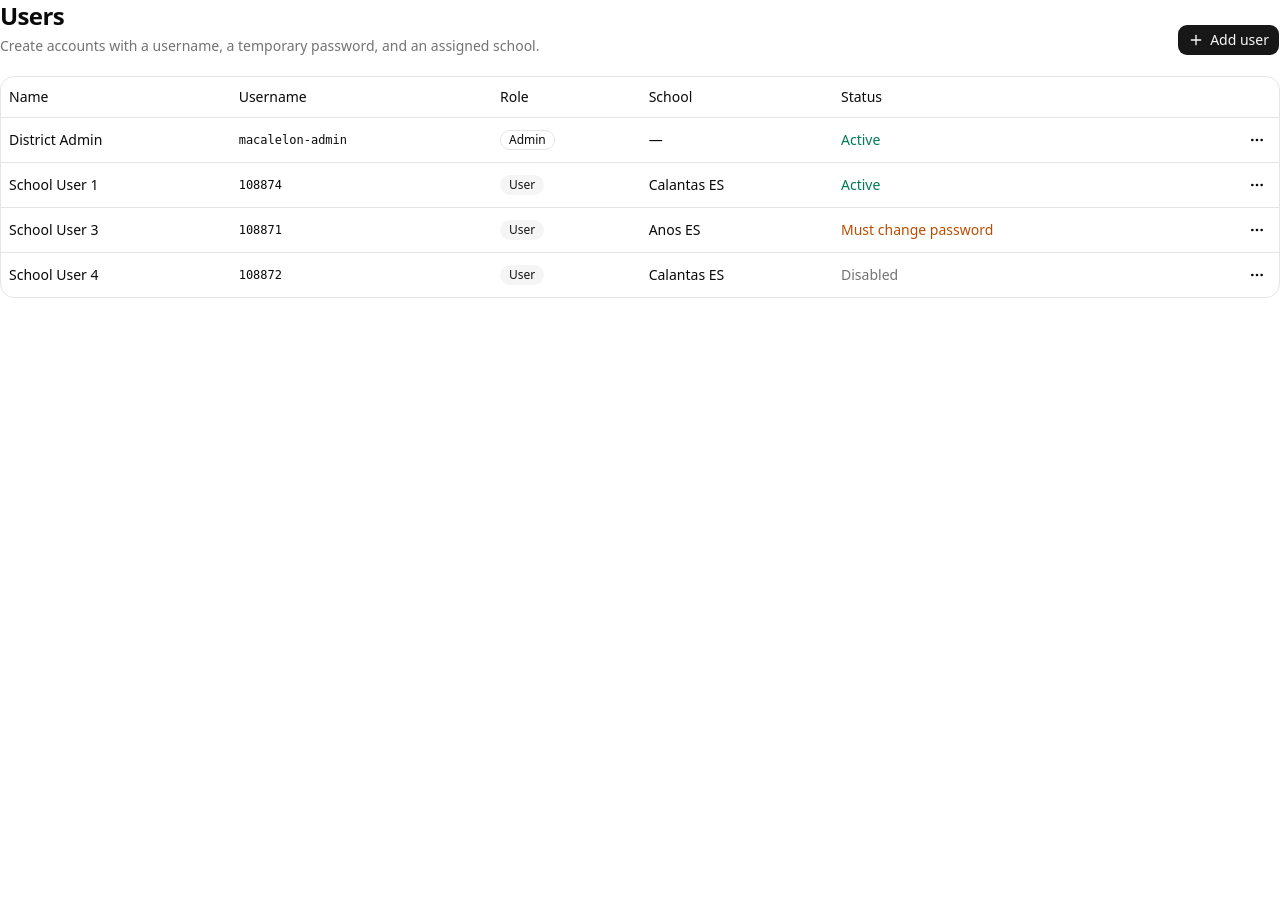
Test: UsersPage › doesn't offer disabling or a role change for your own account
Press the mouse on the button named "Actions for macalelon-admin" at (1257,140), box [1243,126,1271,154]
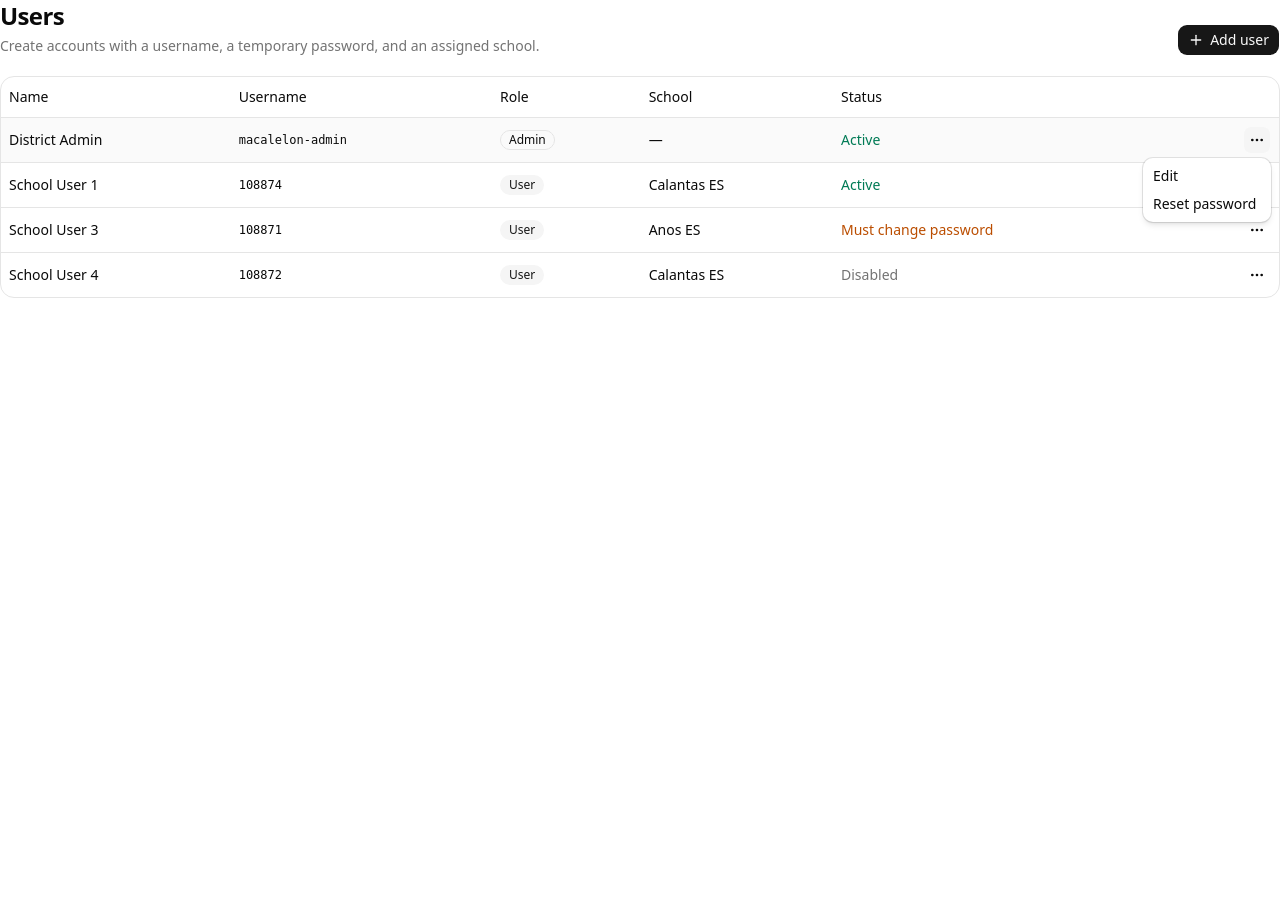
Expected: the menu item "Edit" is shown
Click the menu item "Edit" at (1166,176), box [1153,166,1178,185]
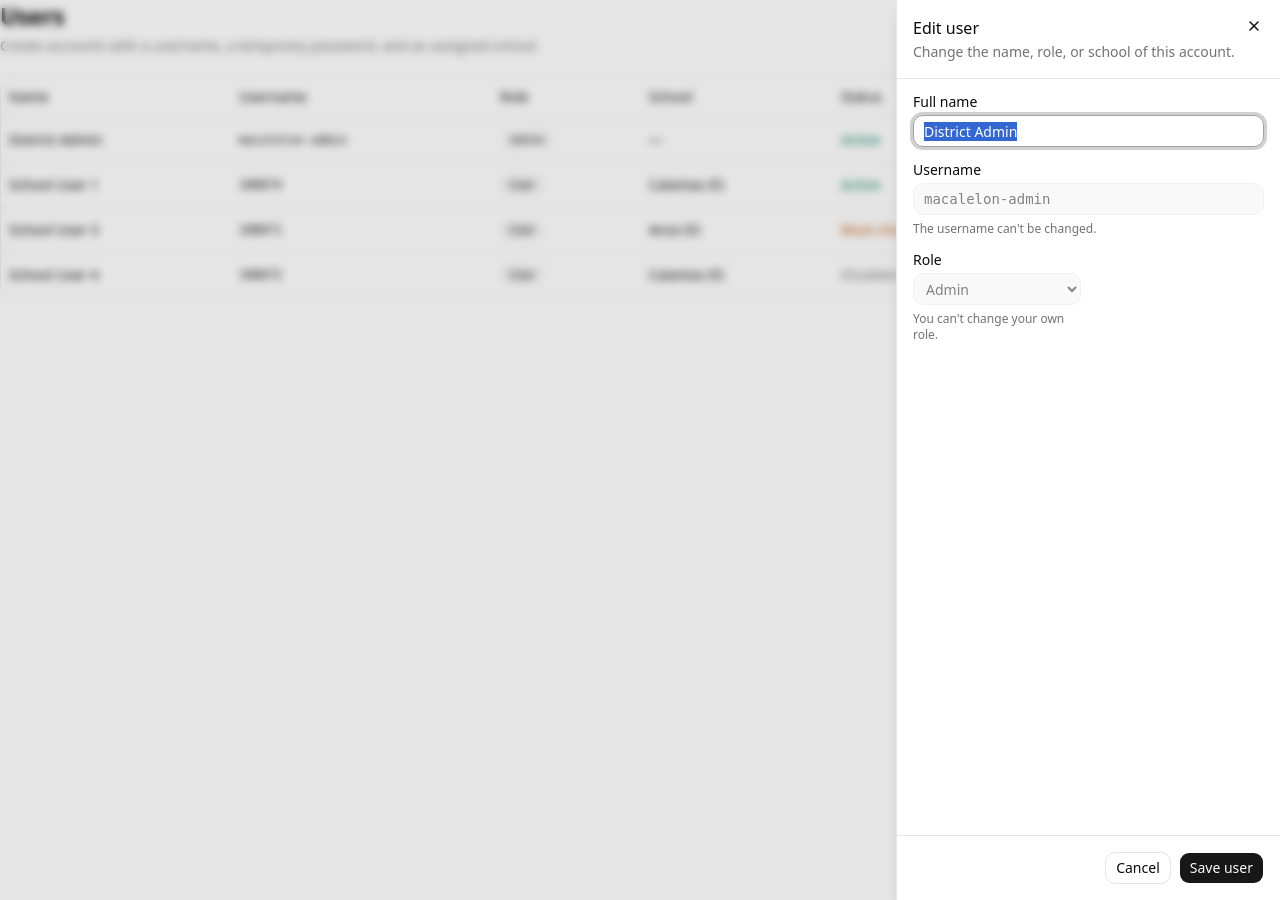
Expected: the dropdown labelled "Role" is disabled, [913,273,1080,305]
